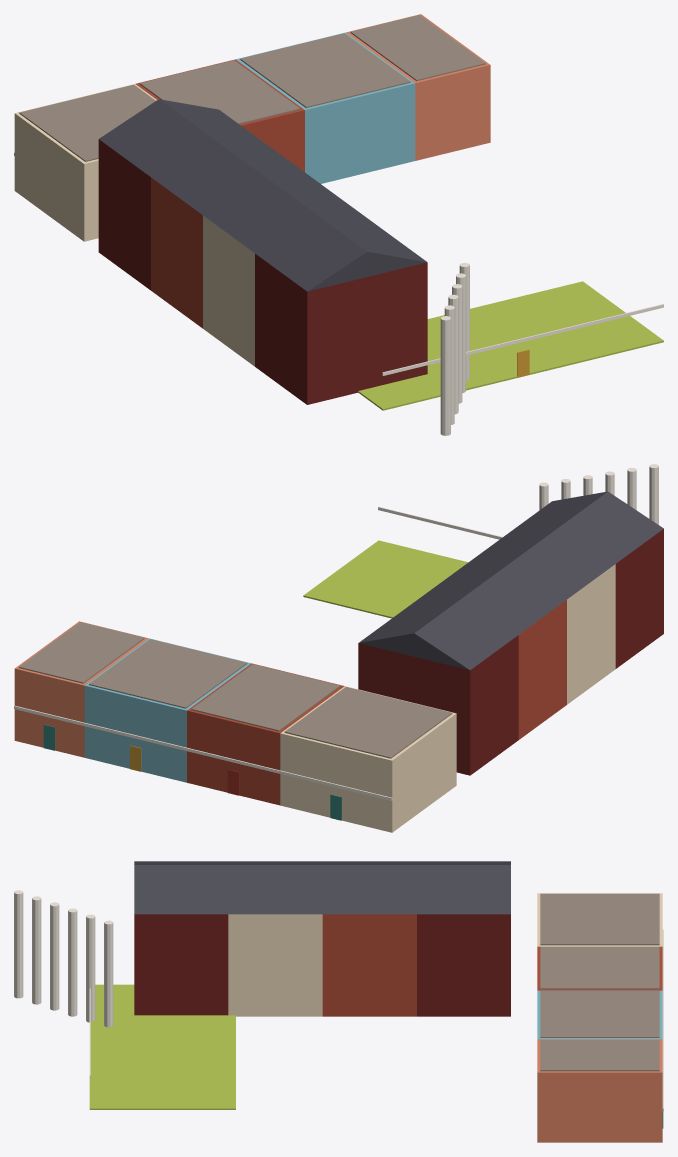
The model's file is chunk_2_1.glb.
The picture shows the model from 3 angles, top to bottom: view 1: azimuth 30°, elevation 25°; view 2: azimuth 150°, elevation 25°; view 3: azimuth 270°, elevation 25°; orthographic projection. The views are drawn at different scales.
Parts seen in each view (by area): view 1: chunk_2_1__building, chunk_2_1__ground, chunk_2_1__statehouse; view 2: chunk_2_1__building, chunk_2_1__ground, chunk_2_1__statehouse; view 3: chunk_2_1__building, chunk_2_1__ground, chunk_2_1__statehouse.
Part boxes in pixels (x1,y1,x2,y2): chunk_2_1__building: (14, 14, 663, 404); chunk_2_1__ground: (358, 281, 663, 410); chunk_2_1__statehouse: (440, 262, 469, 435); chunk_2_1__building: (14, 491, 663, 832); chunk_2_1__ground: (303, 540, 467, 618); chunk_2_1__statehouse: (539, 464, 658, 524); chunk_2_1__building: (89, 861, 663, 1142); chunk_2_1__ground: (89, 984, 235, 1109); chunk_2_1__statehouse: (14, 890, 113, 1027).
Bounding box in the file's own units: 40.5 × 13.2 × 62.12.
